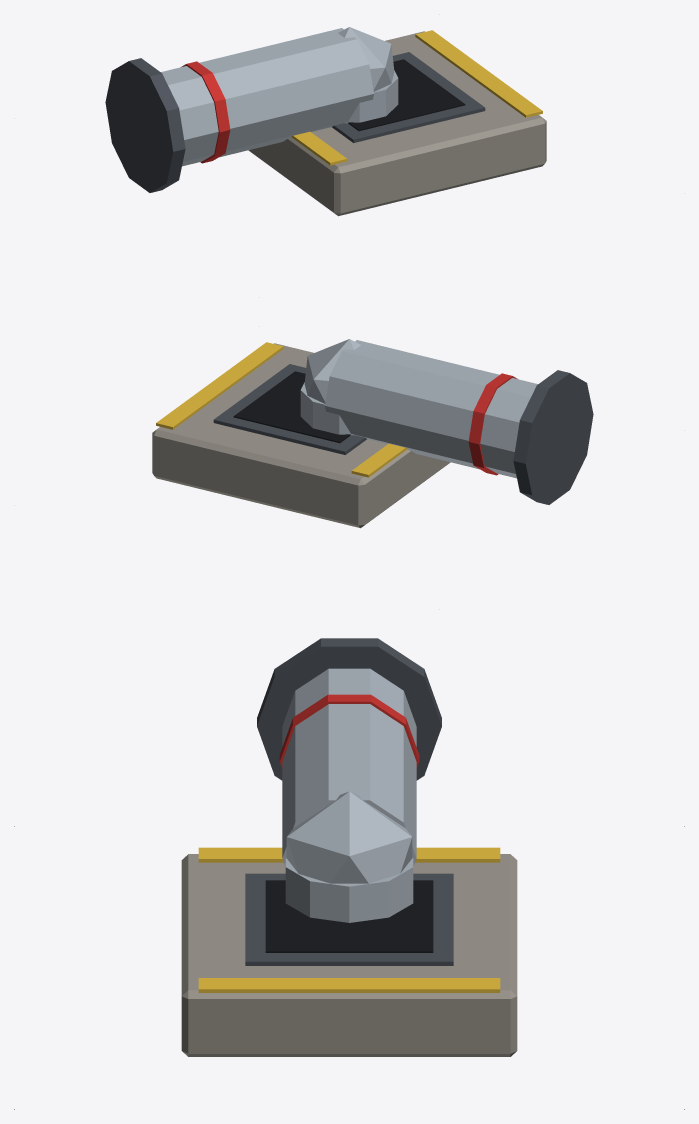
Rendered from tuyau_regard_t3.glb.
3 renders of one model, top to bottom at view 1: azimuth 30°, elevation 25°; view 2: azimuth 150°, elevation 25°; view 3: azimuth 270°, elevation 25°, orthographic. The views are drawn at different scales.
Visible parts, largest first — view 1: pieces_inox.014, pieces_beton.030, pieces_acier_sombre.050, pieces_jaune.006, pieces_noir.022, pieces_rive_t3.014; view 2: pieces_inox.014, pieces_beton.030, pieces_acier_sombre.050, pieces_jaune.006, pieces_noir.022, pieces_rive_t3.014; view 3: pieces_beton.030, pieces_inox.014, pieces_acier_sombre.050, pieces_noir.022, pieces_jaune.006, pieces_rive_t3.014.
Boxes of the visible parts, box(x1,y1,x2,y2) form: pieces_inox.014: box(161, 27, 398, 166); pieces_beton.030: box(248, 31, 546, 216); pieces_acier_sombre.050: box(105, 52, 485, 192); pieces_jaune.006: box(291, 30, 542, 165); pieces_noir.022: box(348, 59, 465, 131); pieces_rive_t3.014: box(181, 61, 230, 163); pieces_inox.014: box(300, 339, 537, 478); pieces_beton.030: box(152, 343, 450, 528); pieces_acier_sombre.050: box(213, 364, 593, 504); pieces_jaune.006: box(156, 342, 407, 477); pieces_noir.022: box(233, 371, 350, 443); pieces_rive_t3.014: box(468, 373, 517, 475); pieces_beton.030: box(181, 854, 517, 1056); pieces_inox.014: box(282, 668, 416, 922); pieces_acier_sombre.050: box(245, 638, 453, 965); pieces_noir.022: box(265, 880, 433, 952); pieces_jaune.006: box(198, 847, 500, 992); pieces_rive_t3.014: box(279, 694, 419, 768).
Bounding box in the file's own units: 1 × 0.3112 × 1.
